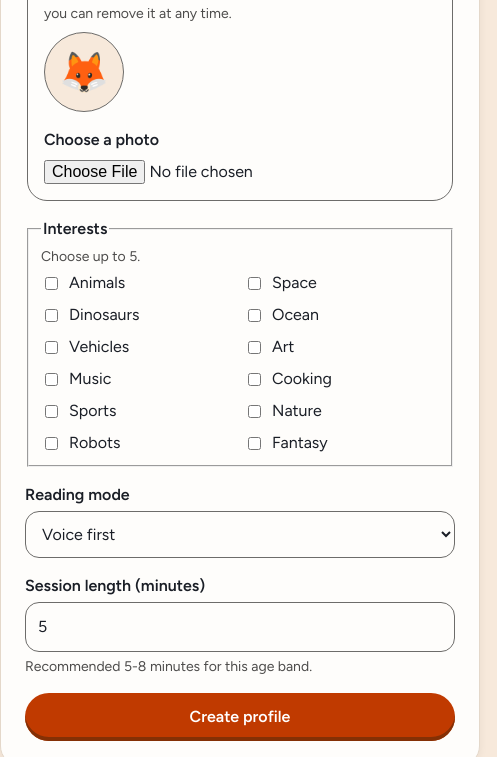
Test: ChildProfileForm › blocks submission and reports an error when the nickname is empty
The width and height of the screenshot is (497, 757).
(page scrolled)
Step 1. Click the button "Create profile" → (240, 717), box [25,693,455,741]
(page scrolled)
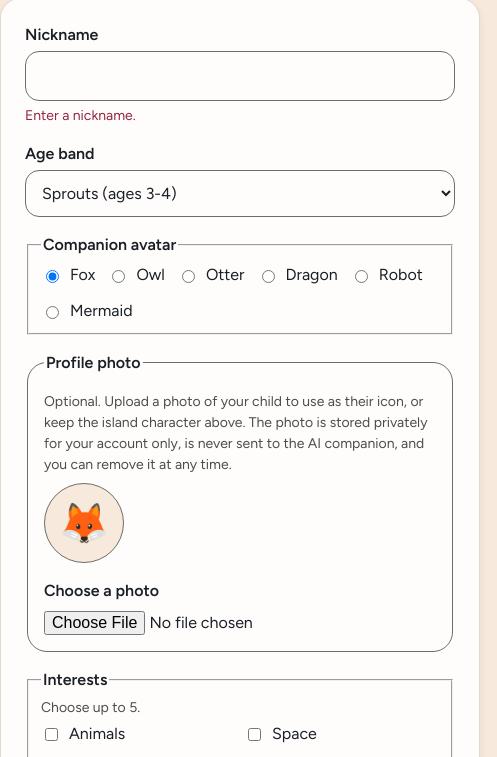
Check: the text "Enter a nickname." is shown, box [25,107,136,124]
